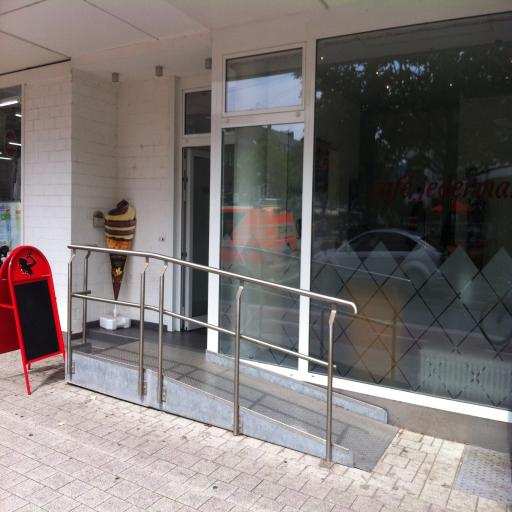ramp: (152, 359, 400, 475)
